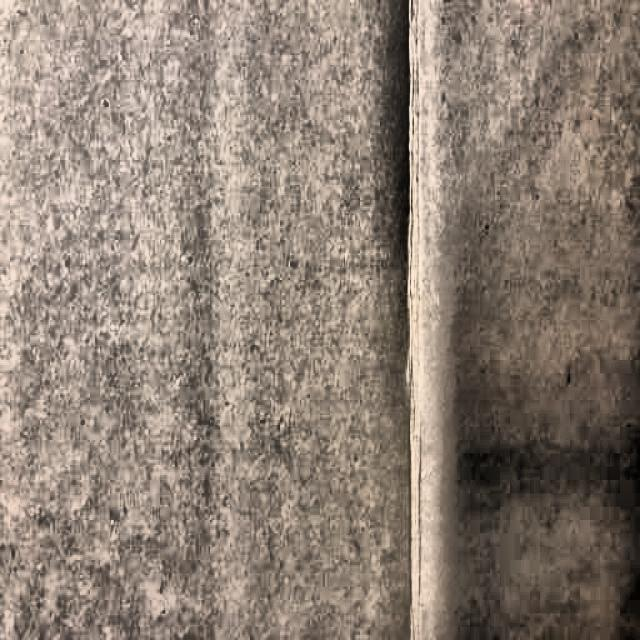cardboard: (17, 8, 631, 630)
